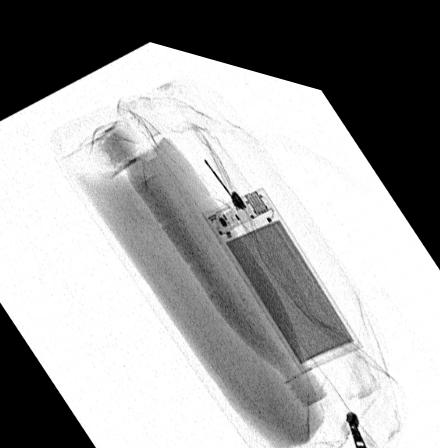Powerbank: (199, 169, 363, 354)
